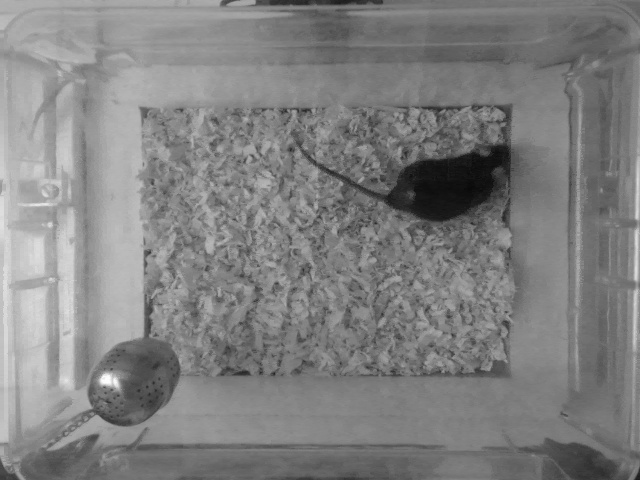mice: (292, 137, 513, 222)
